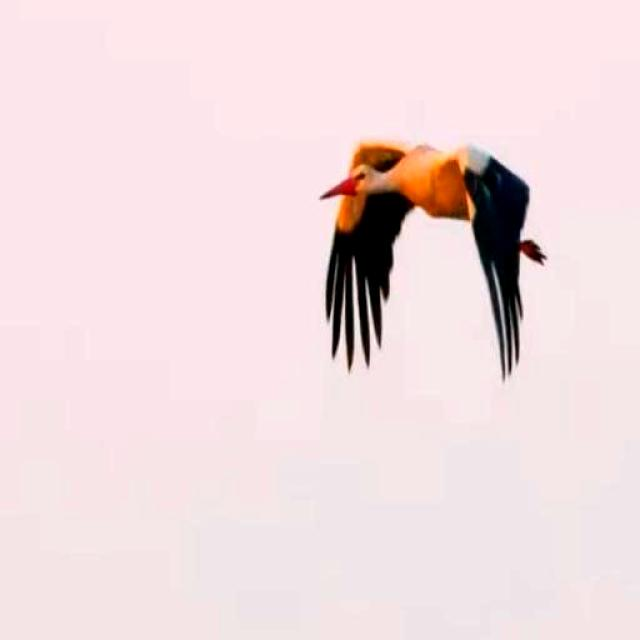airplane: (318, 122, 556, 378)
